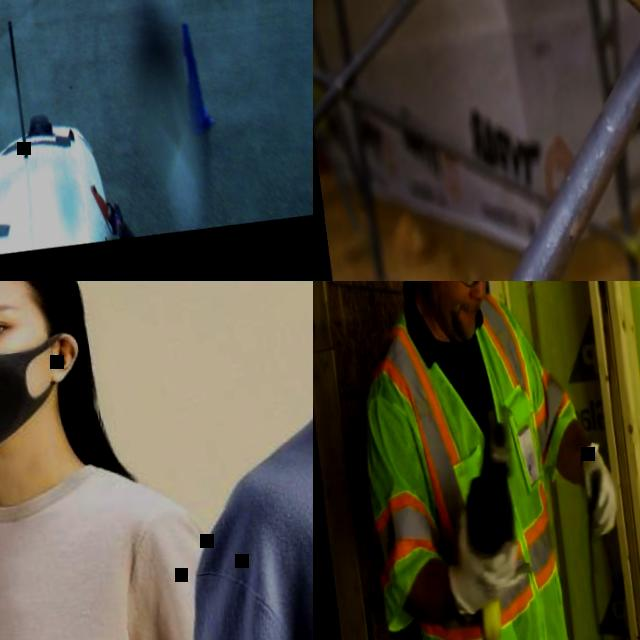mask: (0, 327, 91, 463)
no_mask: (435, 296, 479, 344)
no_vest: (0, 468, 184, 640)
person: (317, 281, 640, 640), (0, 281, 241, 640), (102, 281, 313, 640)
safety_cone: (171, 18, 219, 136)
vest: (341, 281, 611, 640)
